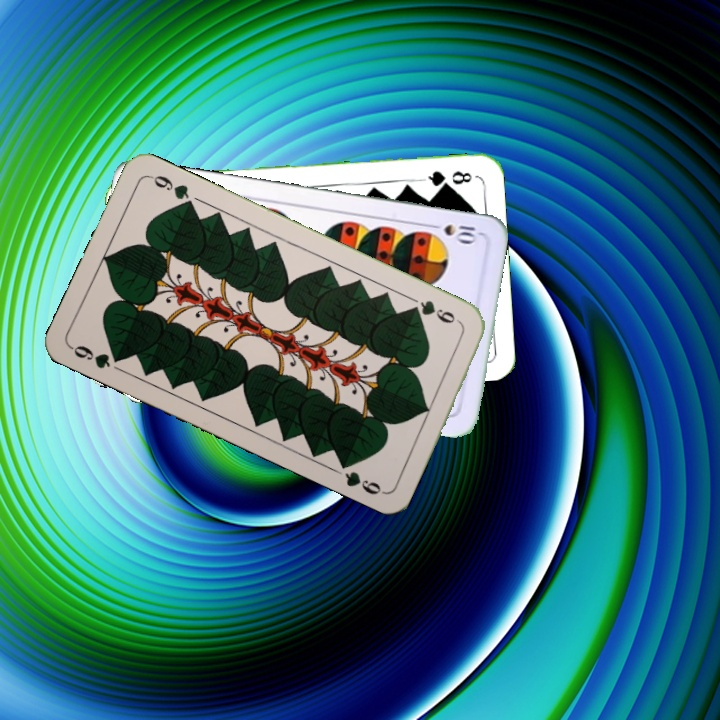G8: (418, 166, 475, 189)
G9: (406, 294, 464, 327), (67, 341, 127, 371)
S10: (424, 219, 482, 245)
